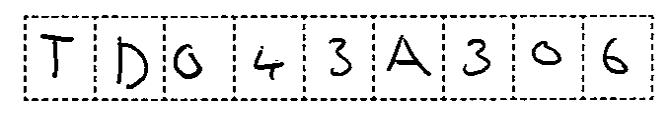0: (172, 40, 209, 83), (525, 36, 568, 72)
3: (455, 32, 500, 80), (323, 33, 357, 81)
4: (247, 42, 289, 82)
6: (594, 34, 637, 77)
A: (381, 28, 435, 80)
D: (109, 32, 153, 94)
T: (34, 28, 78, 85)
